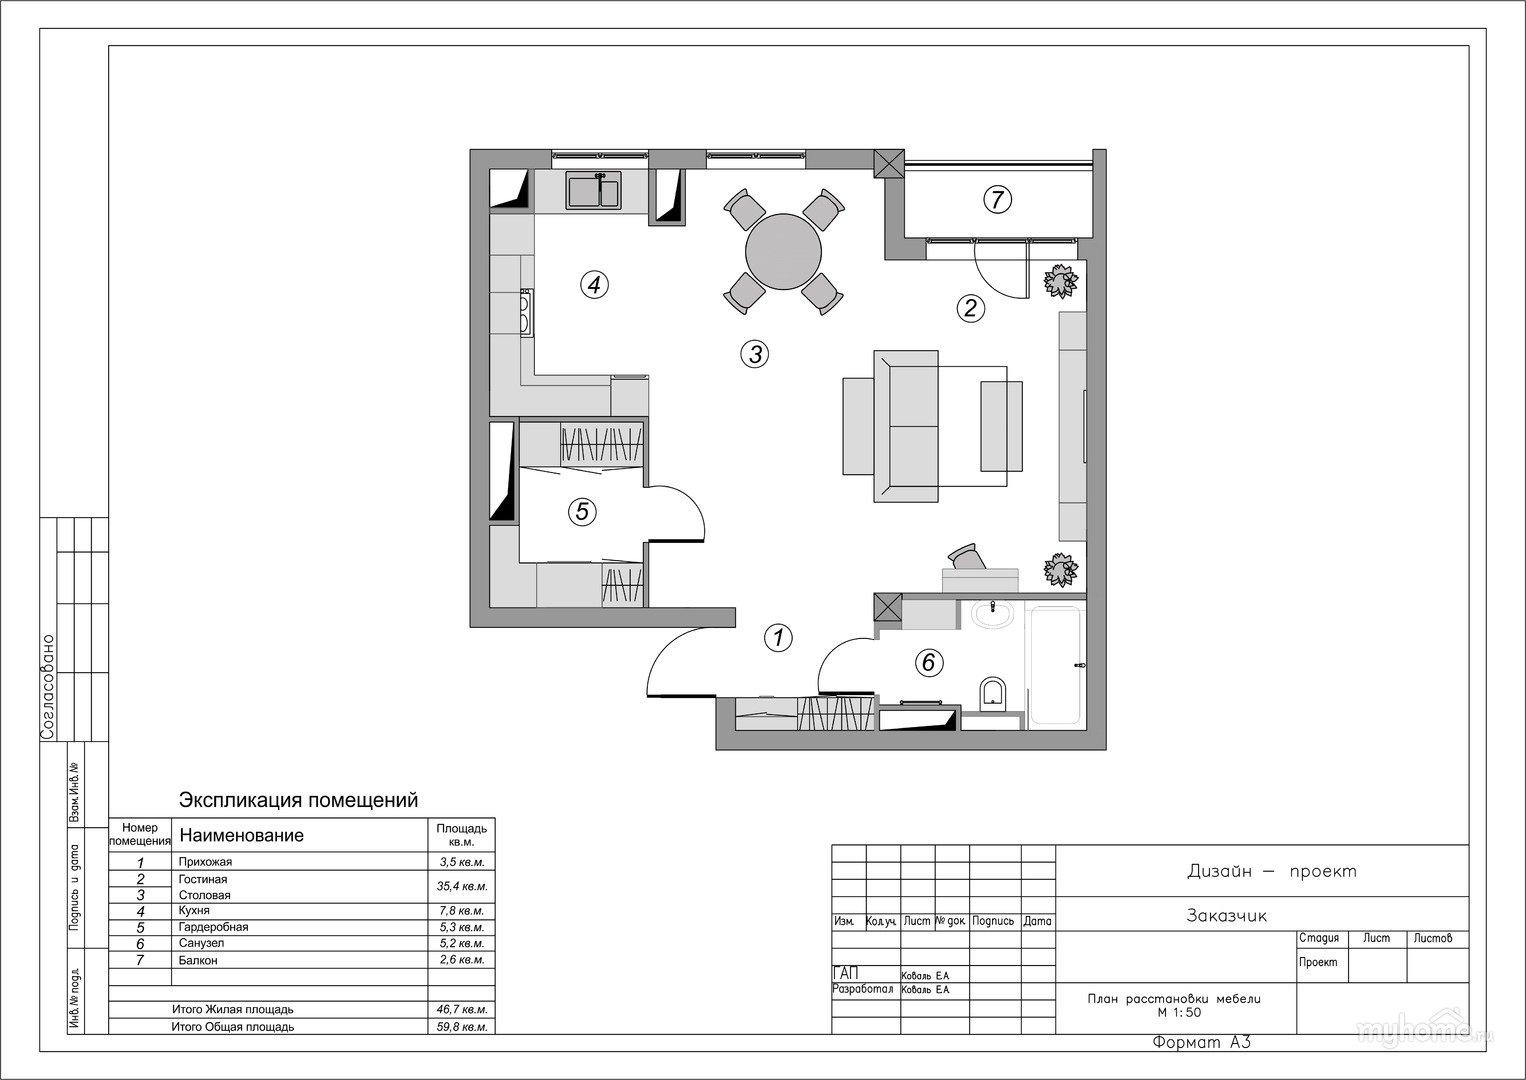balcony: (907, 164, 1095, 238)
bathroom: (879, 600, 1087, 732)
dining_room: (652, 169, 886, 488)
hallway: (649, 274, 876, 698)
kitchen: (489, 169, 649, 417)
living_room: (875, 243, 1088, 596)
walk_in_closet: (488, 421, 644, 607)
